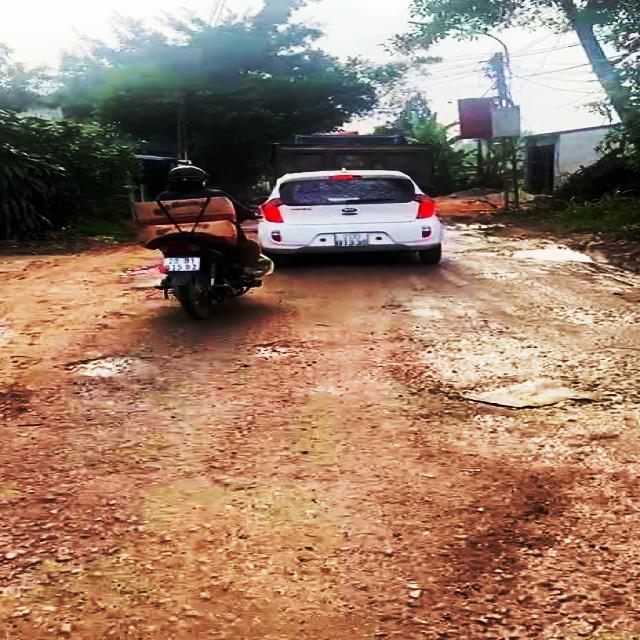pothole: (54, 354, 150, 381), (461, 246, 590, 264), (250, 341, 300, 361)
